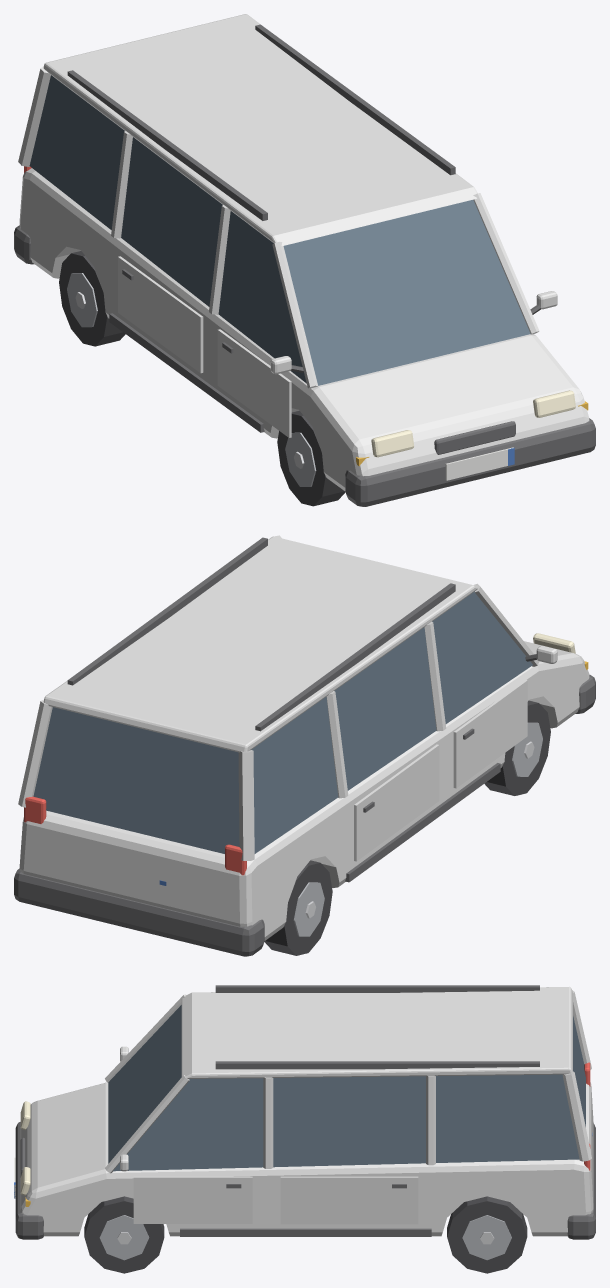
Rendered from car-mpv.glb.
The picture shows the model from 3 angles, top to bottom: view 1: azimuth 30°, elevation 25°; view 2: azimuth 150°, elevation 25°; view 3: azimuth 270°, elevation 25°; orthographic projection. The views are drawn at different scales.
Parts seen in each view (by area): view 1: body, detach_bumper_front, detach_door_right, wheel-back-right, wheel-front-right; view 2: body, detach_bumper_back, detach_door_right, wheel-back-right, wheel-front-right; view 3: body, detach_door_left, wheel-back-left, wheel-front-left, detach_bumper_front, detach_bumper_back.
Boxes of the visible parts, x1,y1,x2,y2 form: body: [18, 14, 589, 490]; detach_bumper_front: [345, 418, 595, 506]; detach_door_right: [217, 329, 291, 437]; wheel-back-right: [59, 251, 125, 346]; wheel-front-right: [277, 410, 345, 506]; body: [18, 535, 589, 940]; detach_bumper_back: [14, 868, 264, 956]; detach_door_right: [453, 679, 527, 788]; wheel-back-right: [264, 860, 332, 955]; wheel-front-right: [484, 700, 550, 795]; body: [20, 985, 593, 1236]; detach_door_left: [133, 1176, 252, 1223]; wheel-back-left: [447, 1196, 527, 1273]; wheel-front-left: [84, 1196, 164, 1273]; detach_bumper_front: [14, 1122, 43, 1239]; detach_bumper_back: [567, 1123, 595, 1239].
Size of the model in its own units: 2.18 by 1.79 by 4.65.
